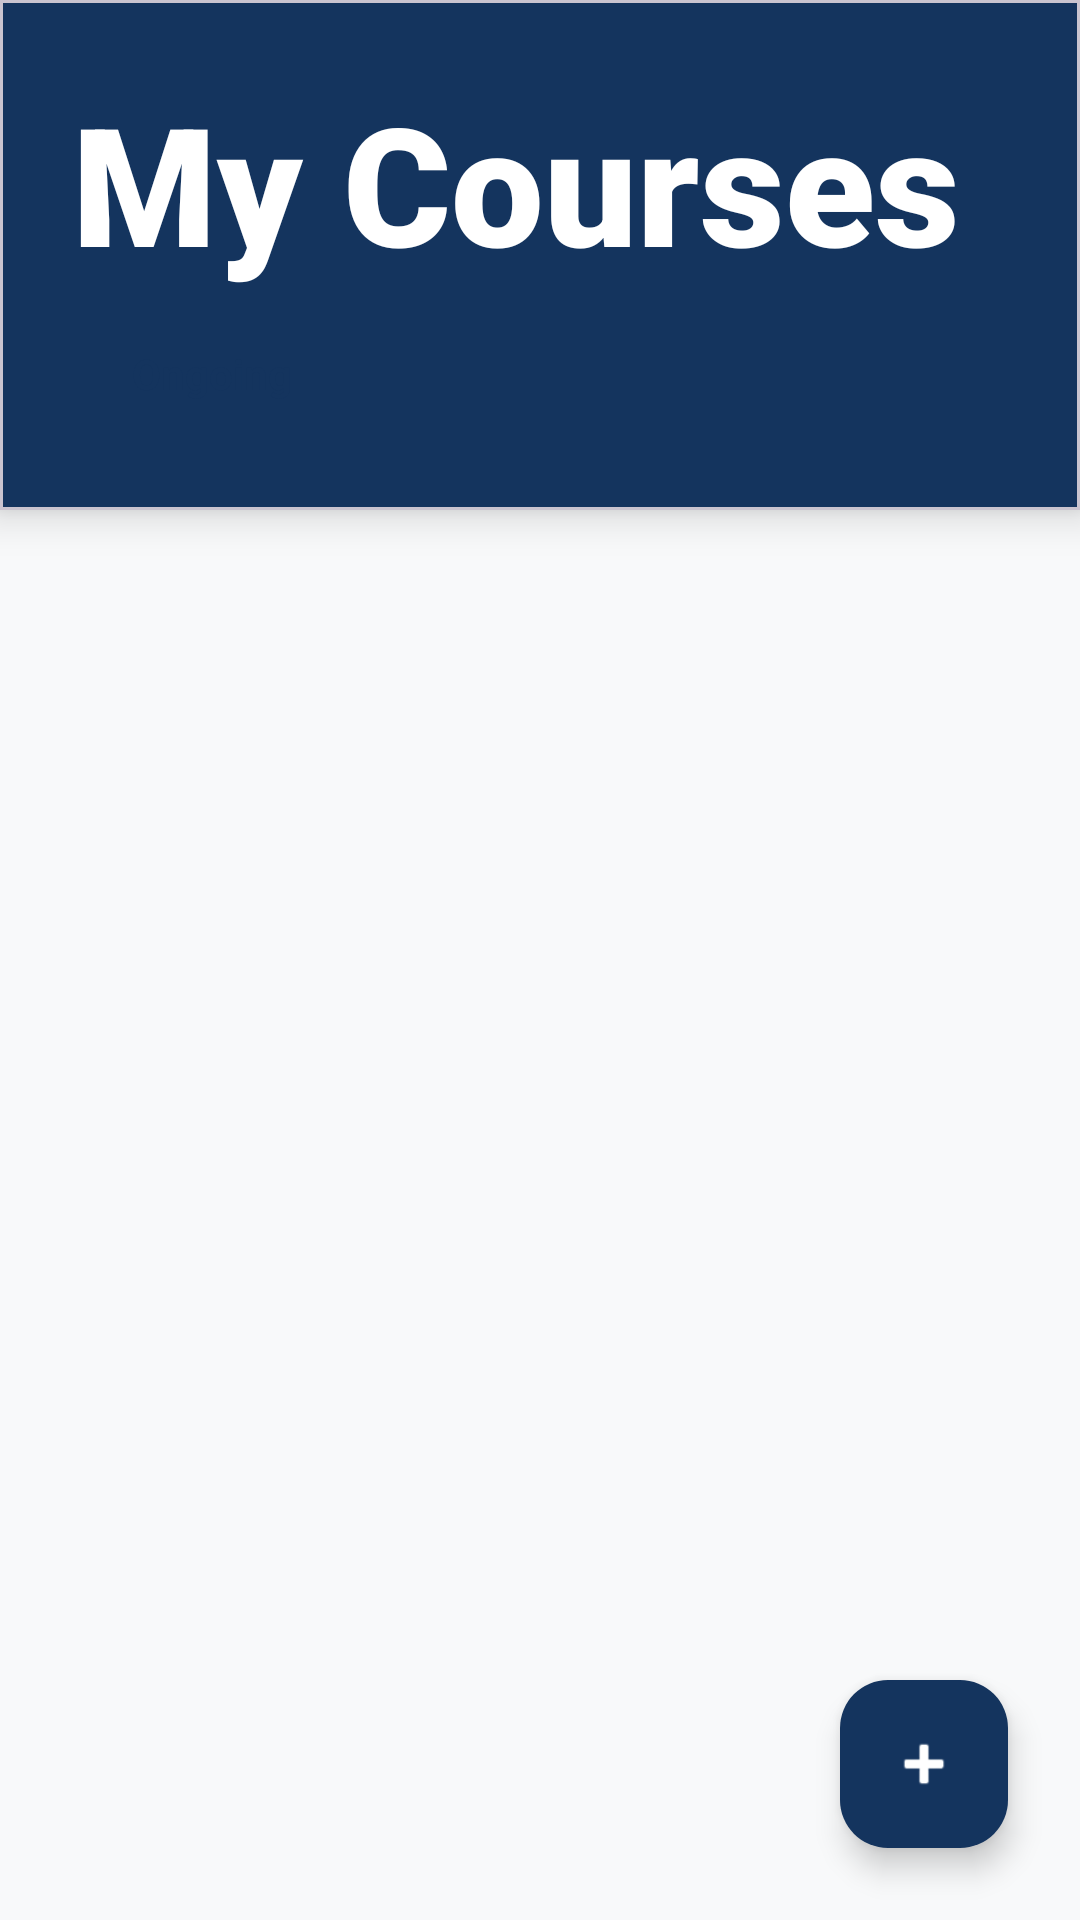

Named icons in this screenshot (1080w x 1920h) and their bounding boxes, (x1,y1,x2,y2):
Add New Course: (840,1680,1008,1848)
